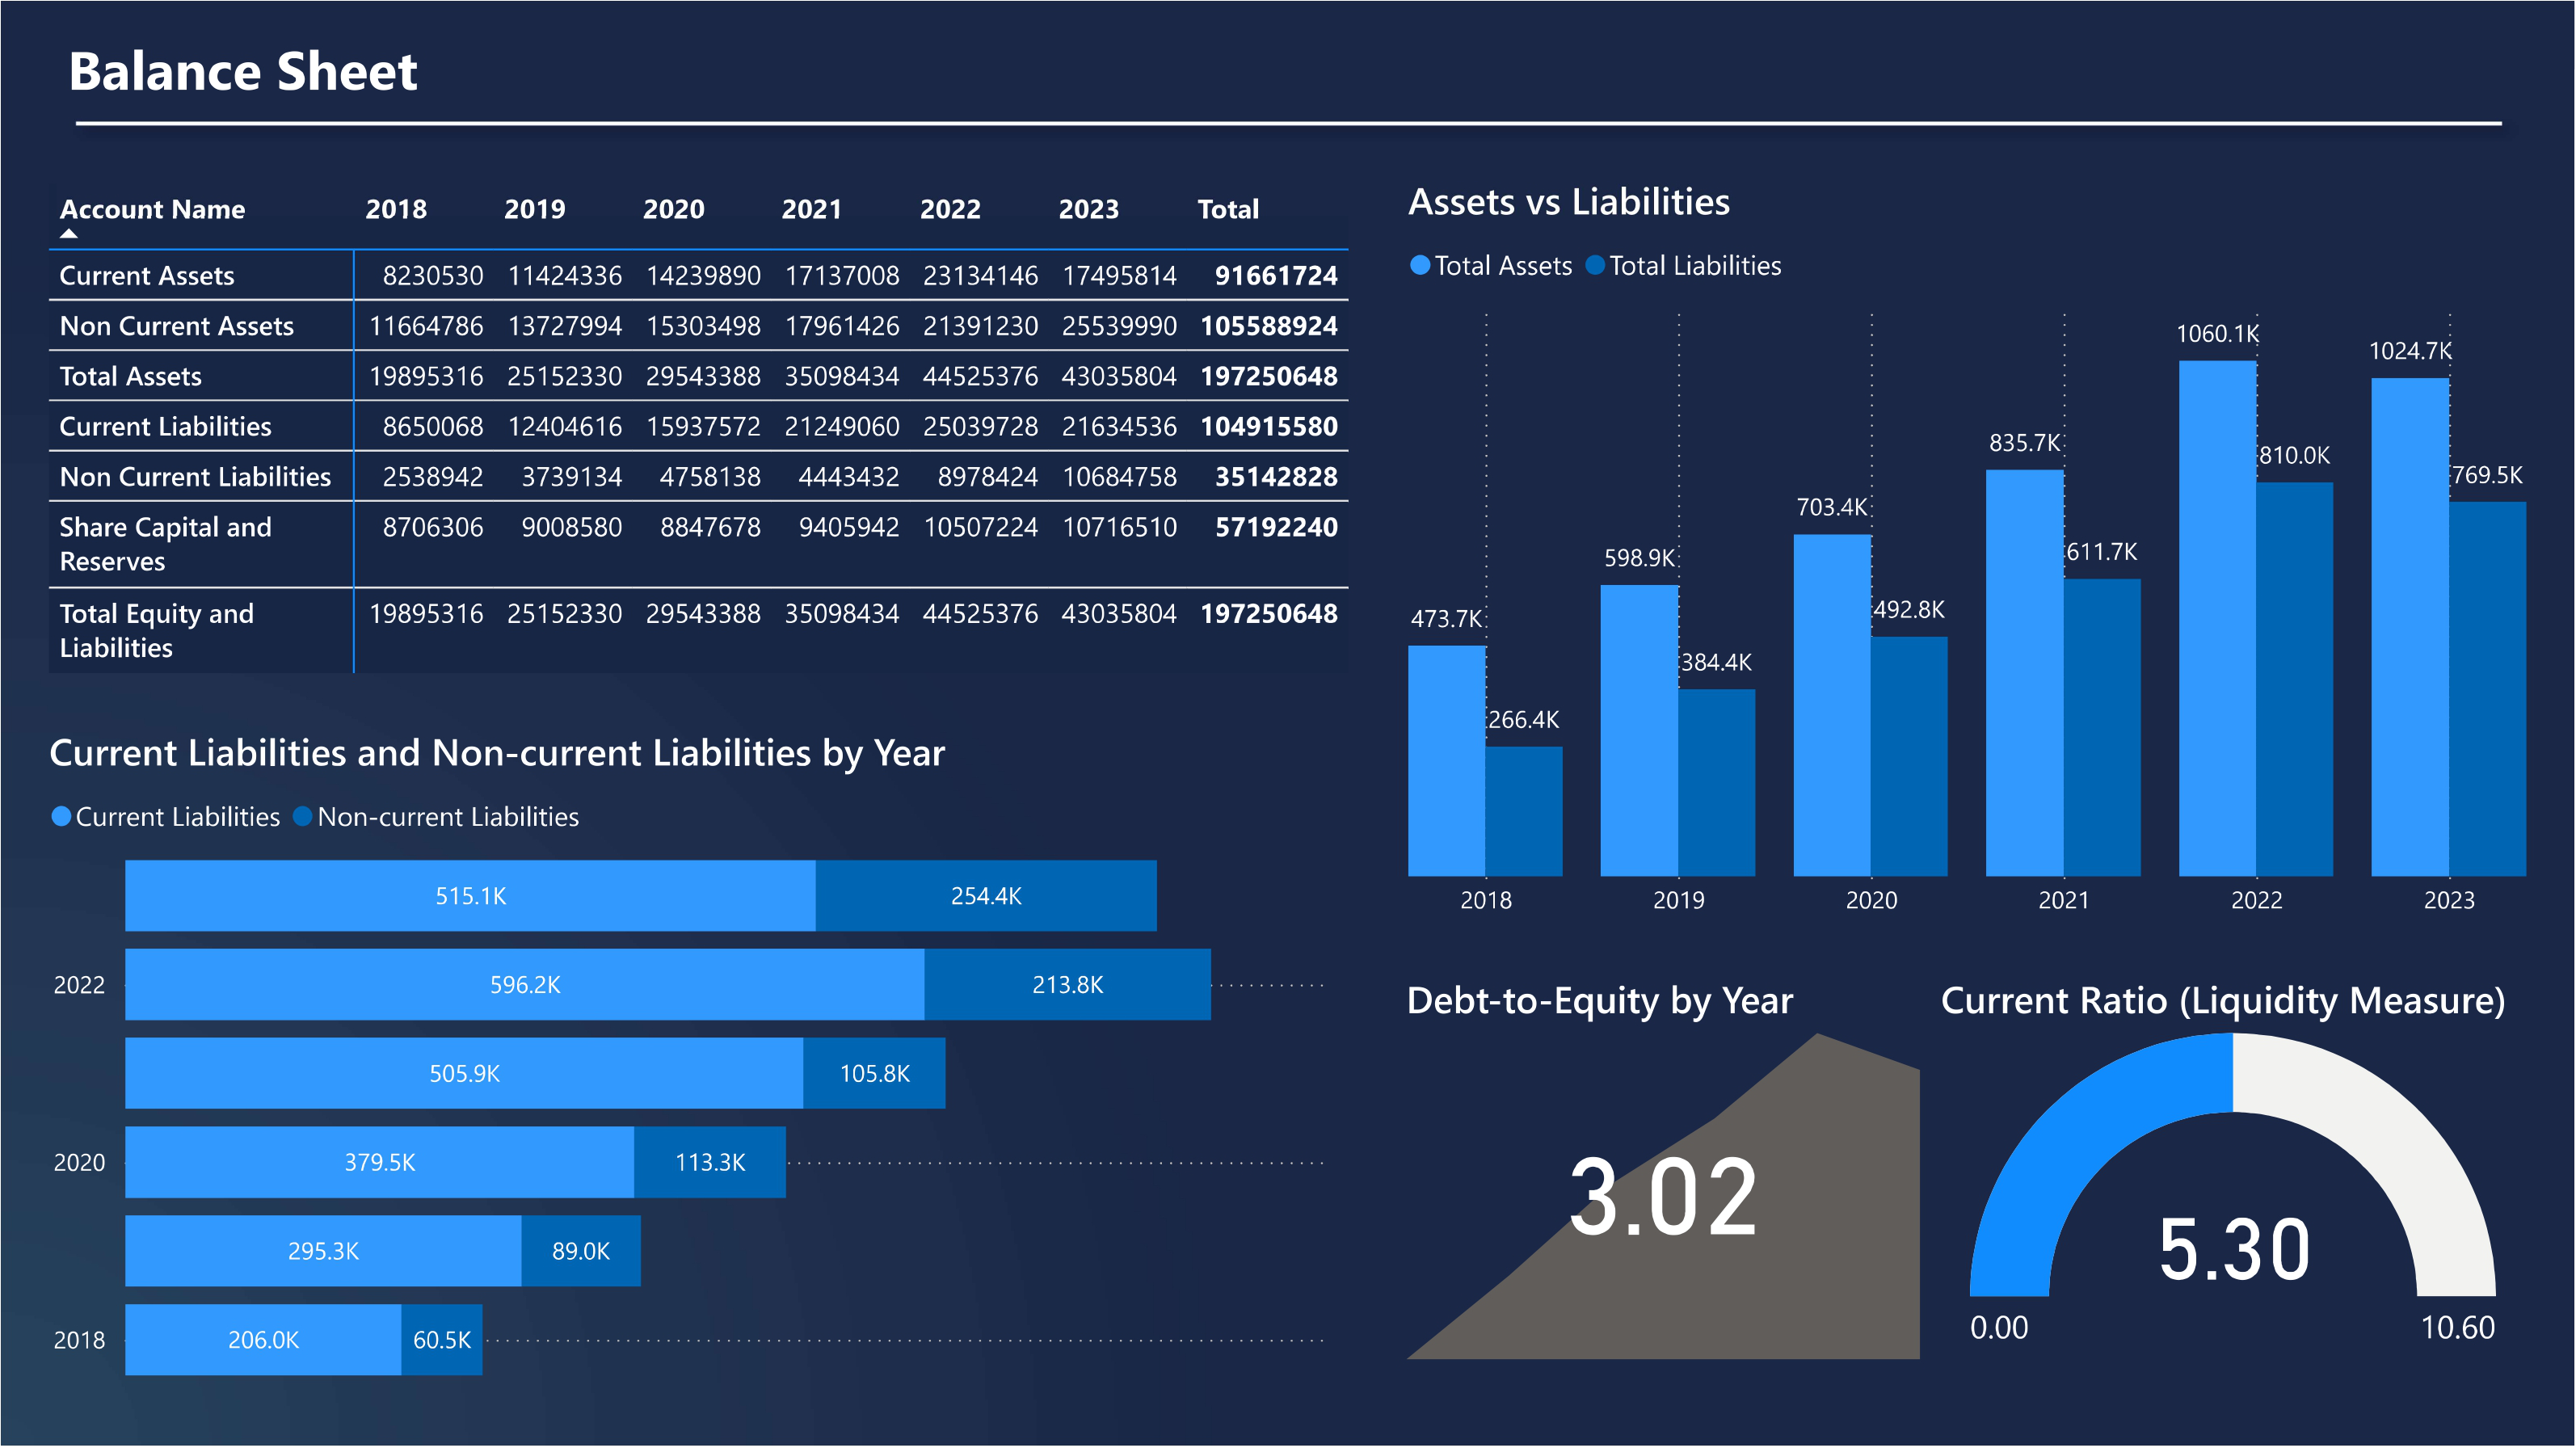

What the dashboard file says about the page in this screenshot:
{"tool":"powerbi","page":{"name":"Balance Sheet","canvas":[1280,720],"ordinal":2},"visuals":[{"type":"barChart","fields":{"Y":["Sum(DataSet.Current Liabilities)","Sum(DataSet.Non Current Liabilities)"],"Category":["DataSet.Year ID.Variation.Date Hierarchy.Year"]},"box":[19.3,359.6,647.4,336.8],"z":0},{"type":"gauge","title":"Current Ratio (Liquidity Measure)","fields":{"Y":["Sum(DataSet.Current Ratio)"]},"box":[959.7,483,301.7,196.9],"z":1000},{"type":"clusteredColumnChart","title":"Assets vs Liabilities","fields":{"Y":["Sum(DataSet.Total Assets)","DataSet.Total Liabilities"],"Category":["DataSet.Year ID.Variation.Date Hierarchy.Year"]},"box":[694.7,86,566.7,378.9],"z":2000},{"type":"kpi","title":"Debt-to-Equity by Year","fields":{"Indicator":["Sum(DataSet.Debt to Equity)"],"TrendLine":["DataSet.Year ID.Variation.Date Hierarchy.Year"]},"box":[694,483,265.7,196.9],"z":3000},{"type":"pivotTable","fields":{"Rows":["Table2 (2).Balance Sheet"],"Columns":["Table2 (2).Year"],"Values":["Sum(Table2 (2).Amount)"]},"box":[19.3,86,663.2,254.4],"z":4000},{"type":"shape","box":[28,14,1225.4,93.8],"z":5000},{"type":"textbox","box":[28.1,10,250,50],"z":6000}]}

Visuals, with their boxes in screenshot pixels (x1, y1, x2, y2), scaled from the page's 1280x720 canvas onto the 2576x1448 screenshot:
barChart - Sum(DataSet.Current Liabilities) x Sum(DataSet.Non Current Liabilities): 39,723,1341,1400
"Current Ratio (Liquidity Measure)" gauge: 1931,971,2539,1367
"Assets vs Liabilities" clusteredColumnChart: 1398,173,2539,935
"Debt-to-Equity by Year" kpi: 1396,971,1931,1367
pivotTable - Table2 (2).Balance Sheet x Table2 (2).Year: 39,173,1374,684
shape: 57,28,2523,217
textbox: 57,20,560,120
